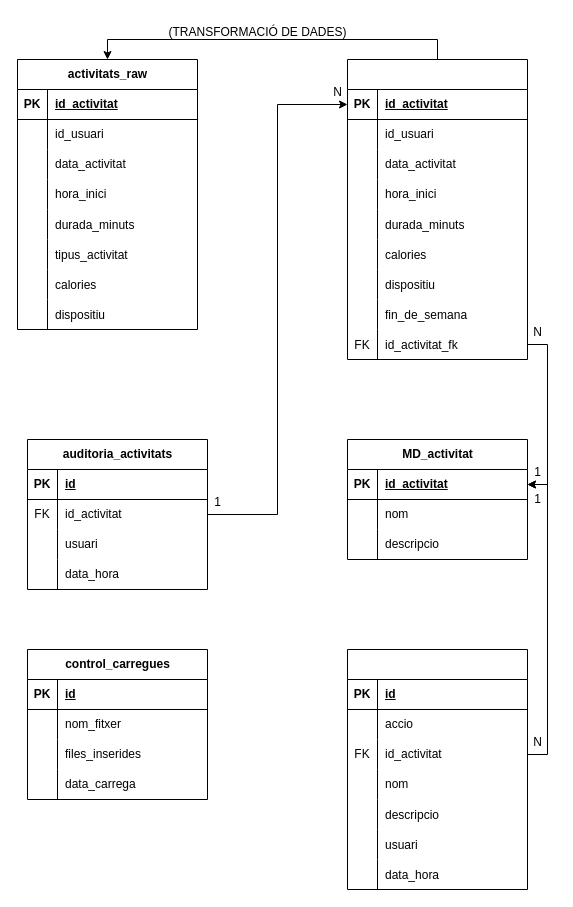
Some shapes in this 573 by 907 pixel diagram are drawn without their labels. The box of each missing label's shape, as (x1, y1, x2, y2) in pixels:
activitats_net: (346, 58, 528, 360)
auditoria_md_activitat: (346, 648, 528, 890)
